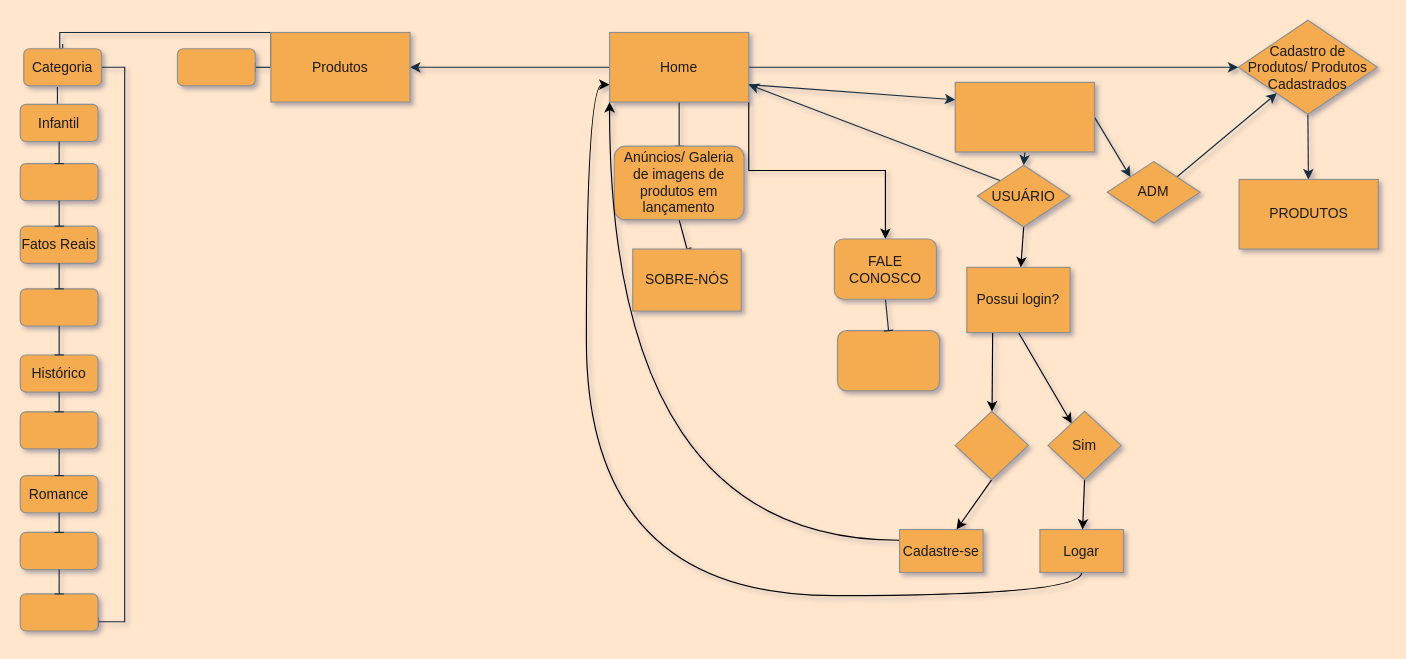
This 1406x659 diagram has some shape labels left out. The box of each missing label's shape, as (x1, y1, x2, y2) in pixels:
Aventura: (19, 162, 98, 201)
Classicos: (19, 411, 98, 449)
Crimes: (19, 288, 98, 326)
LOCALIZAÇÃO ENDEREÇO: (836, 329, 940, 391)
LOGIN ADM OU USUÁRIO: (954, 81, 1094, 152)
Não: (954, 410, 1028, 480)
Outros: (19, 593, 98, 631)
Terror e Suspense: (19, 531, 98, 570)
Ver Todos: (176, 48, 255, 86)
